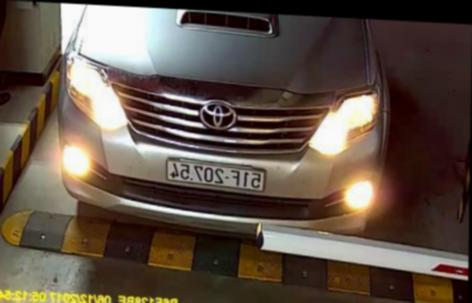License_Plate: (167, 160, 266, 188)
